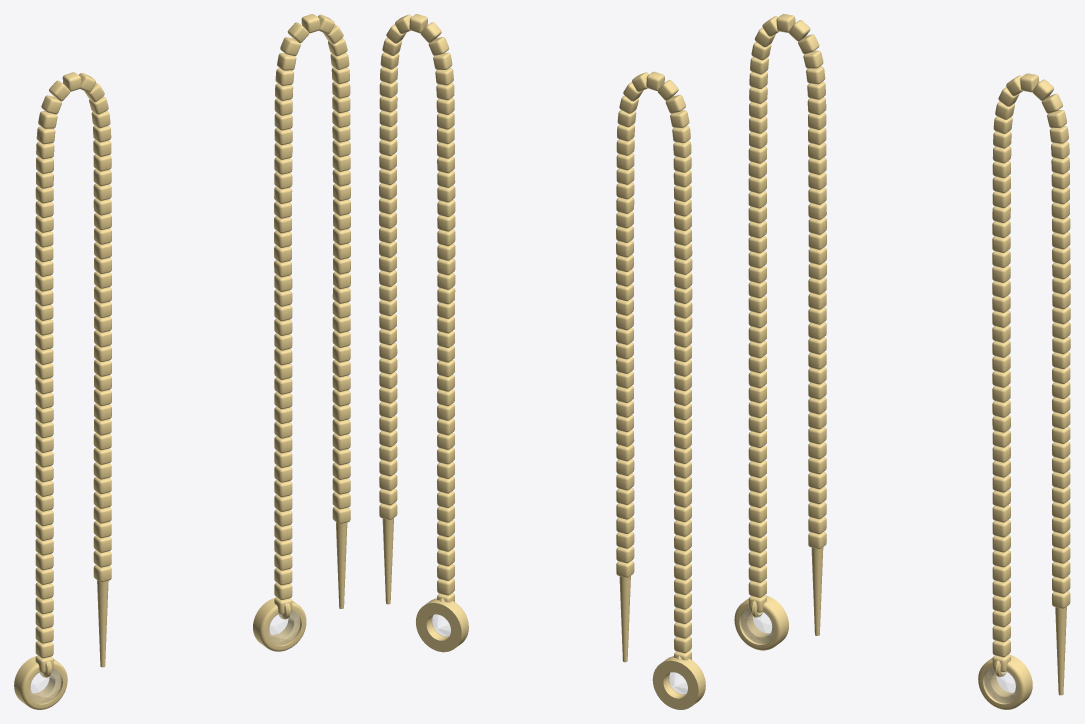
File: threader_earrings.glb
3 renders of one model, left to right at view 1: azimuth 30°, elevation 25°; view 2: azimuth 150°, elevation 25°; view 3: azimuth 330°, elevation 25°, orthographic. The views are drawn at different scales.
Parts seen in each view (by area): view 1: threader_earrings; view 2: threader_earrings; view 3: threader_earrings.
Part boxes in pixels (box(x1,y1,x2,y2)): threader_earrings: box(14, 14, 350, 709); threader_earrings: box(379, 14, 705, 709); threader_earrings: box(734, 14, 1070, 709).
Bounding box in the file's own units: 2.19 × 4.02 × 0.1676.
